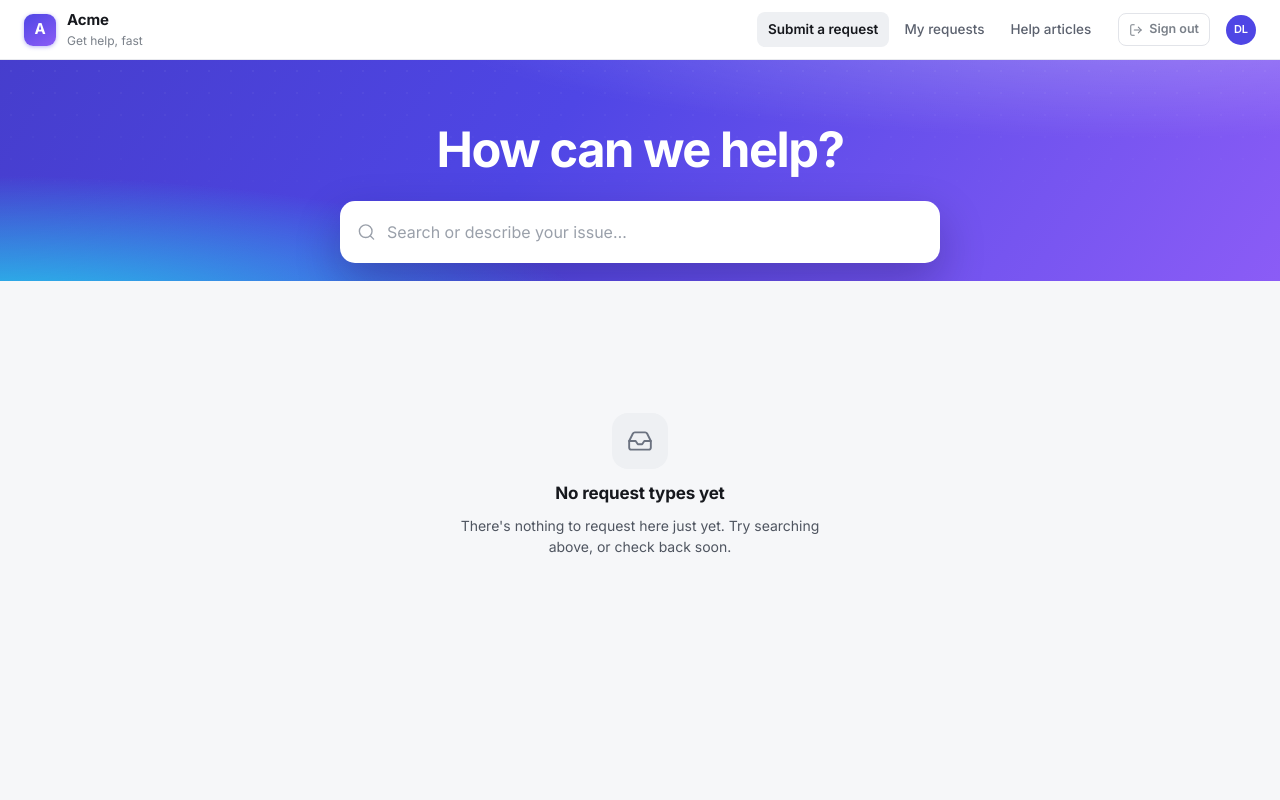
Test: RequesterPortal › My requests nav shows the requester tickets
Click the button "My requests" at [944, 30], box [893,12,996,47]
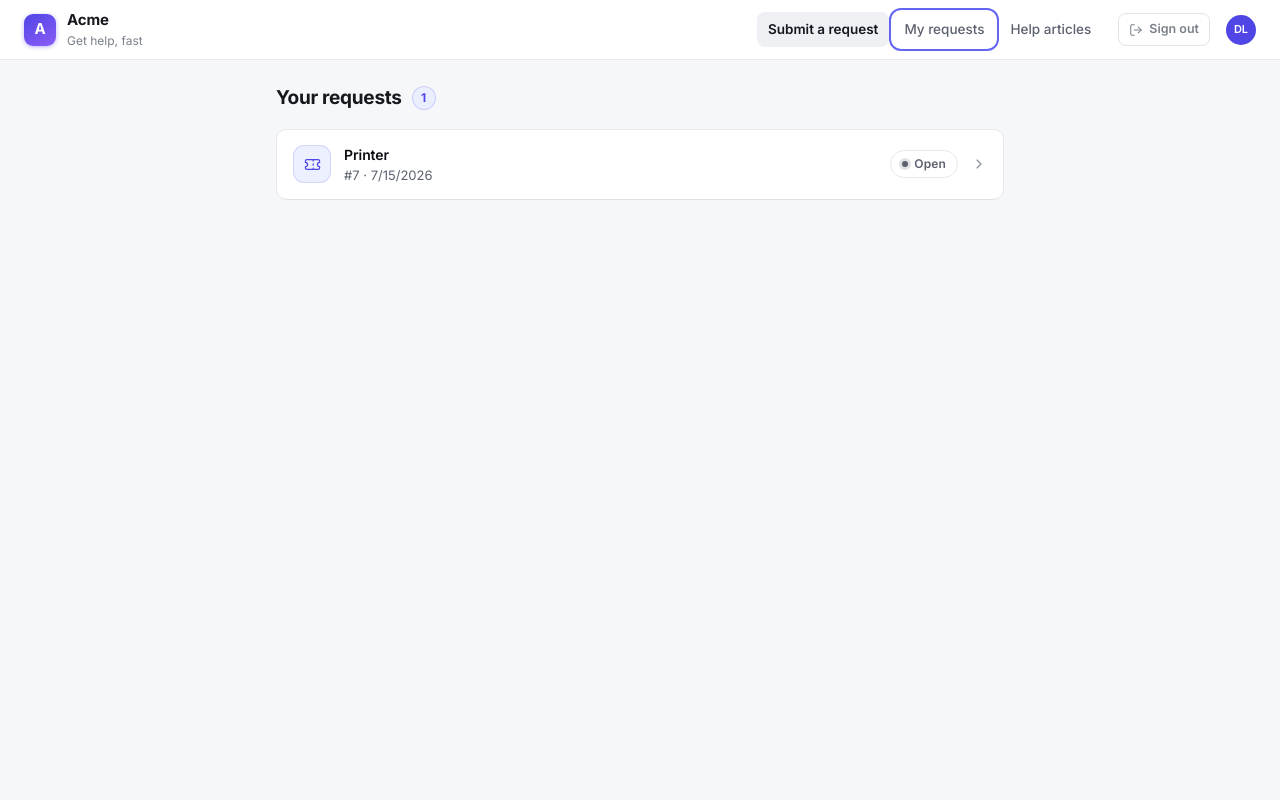
Now the text "Printer" is shown, box [344,146,389,162]
Now the text "#7 · 7/15/2026" is shown, box [344,166,432,182]
